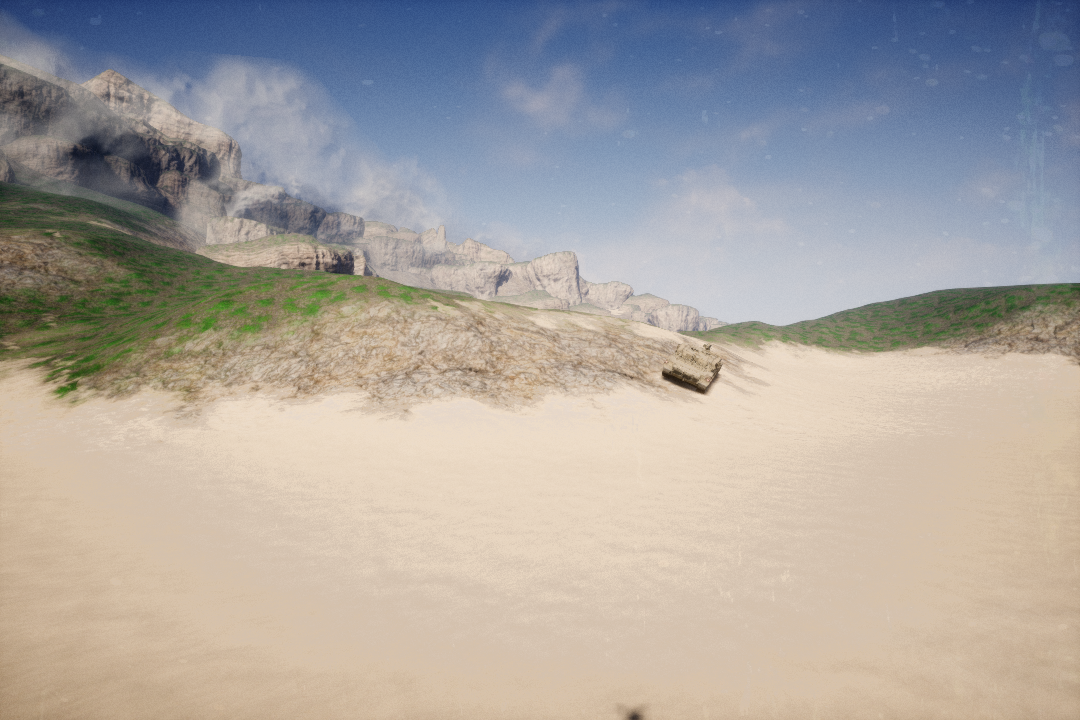tank: (664, 333, 726, 399)
